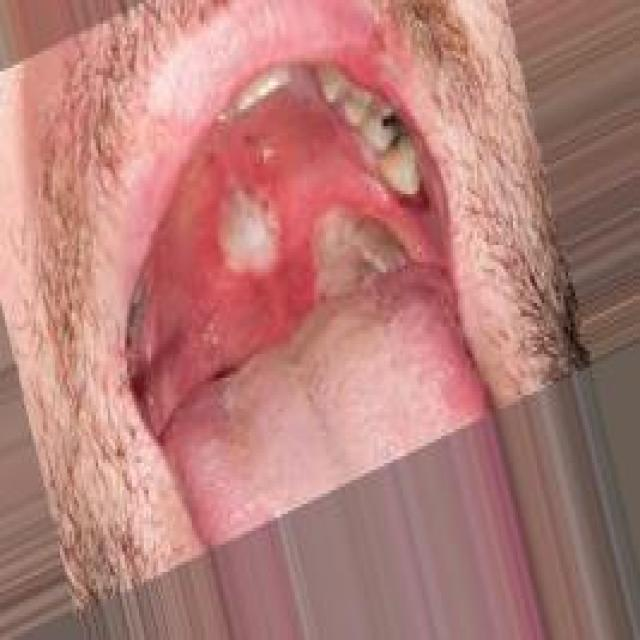caries: (366, 98, 412, 163)
